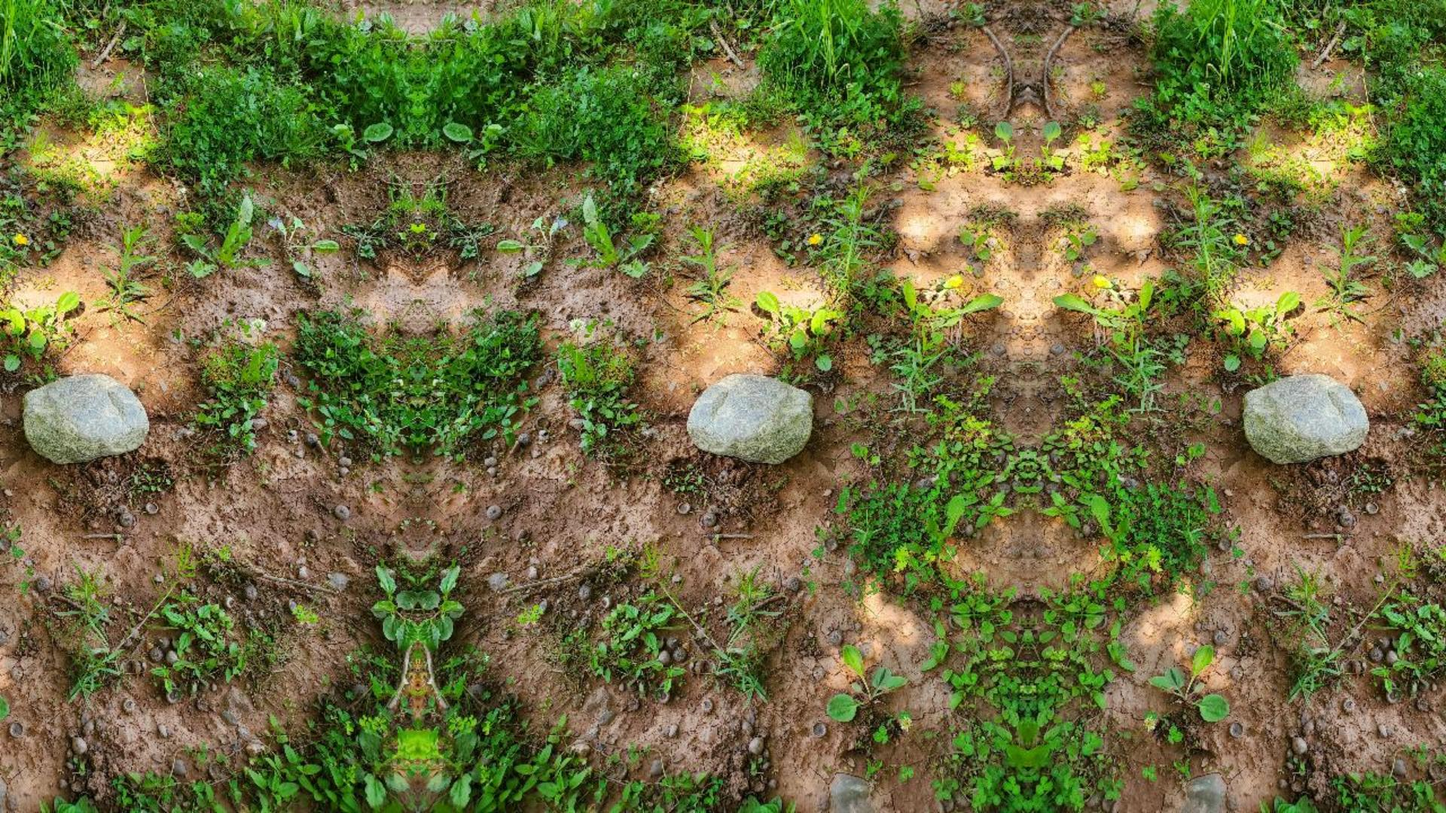rock: (1243, 374, 1368, 463), (687, 374, 811, 463), (24, 374, 148, 463)
